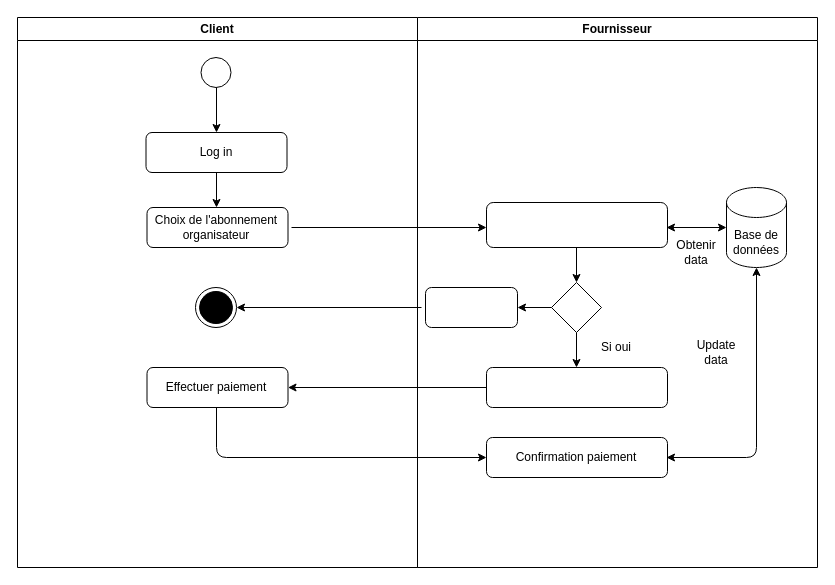
Image size: 835x585. Some labels were removed from this diagram. The centre of each missing label's shape, as x and y in pixels:
Affichage paiement: (x=577, y=387)
Refuse access: (x=471, y=307)
Vérification des droits dans la base de données: (x=577, y=225)
